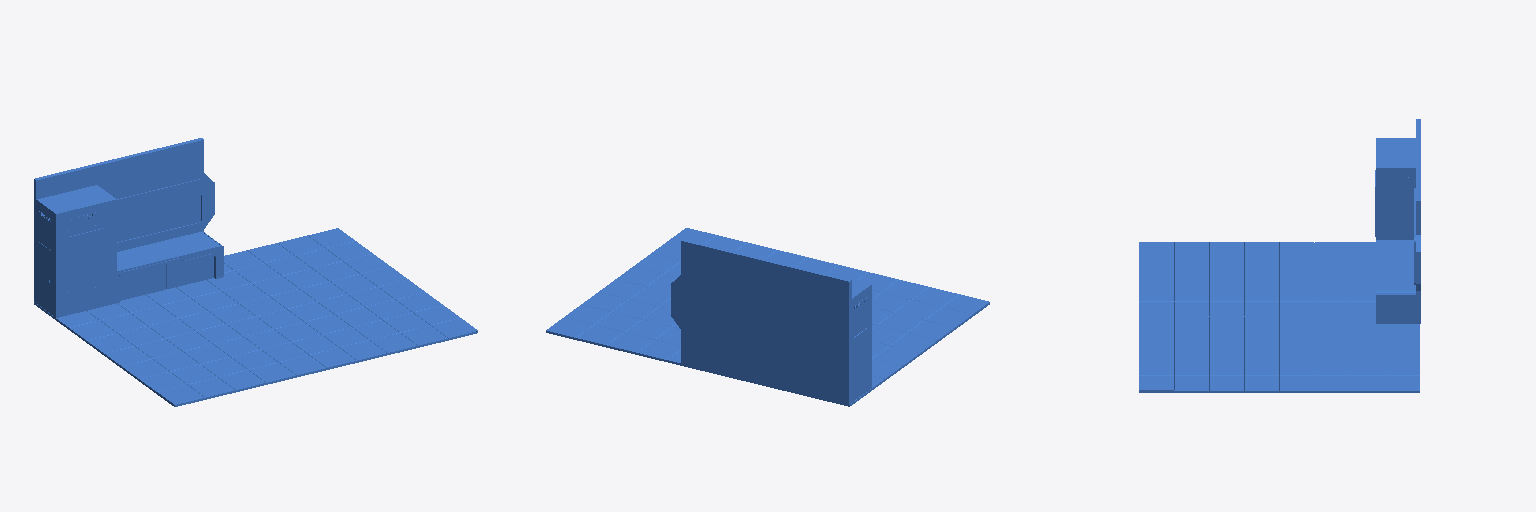
Rendered from kuangjia.obj.
3 renders of one model, left to right at view 1: azimuth 30°, elevation 25°; view 2: azimuth 150°, elevation 25°; view 3: azimuth 270°, elevation 25°, orthographic.
Parts seen in each view (by area): view 1: Layer_0; view 2: Layer_0; view 3: Layer_0.
Part boxes in pixels (x1,y1,x2,y2): Layer_0: (34,138,477,406); Layer_0: (546,228,989,406); Layer_0: (1139,119,1420,392).
Size of the model in its own units: 10010 by 3950 by 8032.